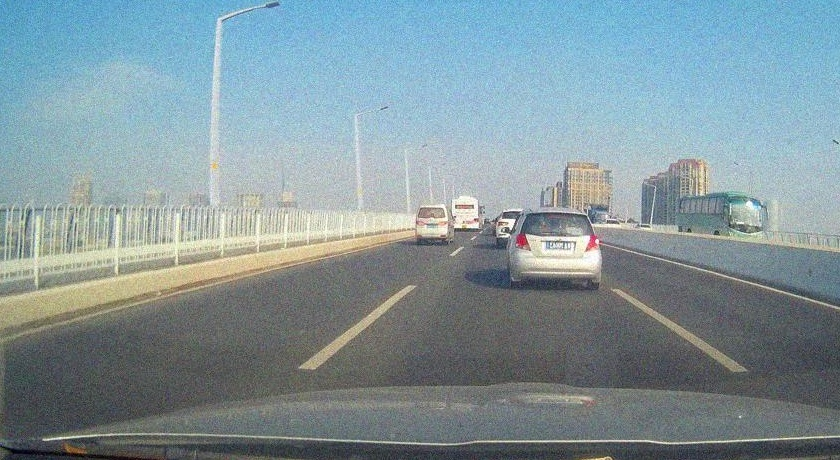L_light: (515, 233, 531, 251), (416, 220, 425, 225)
R_light: (585, 234, 600, 251), (438, 220, 447, 225)
T_light: (550, 212, 563, 215), (428, 208, 434, 209)
day-no: (416, 206, 449, 243)
day-right: (513, 210, 601, 288)
